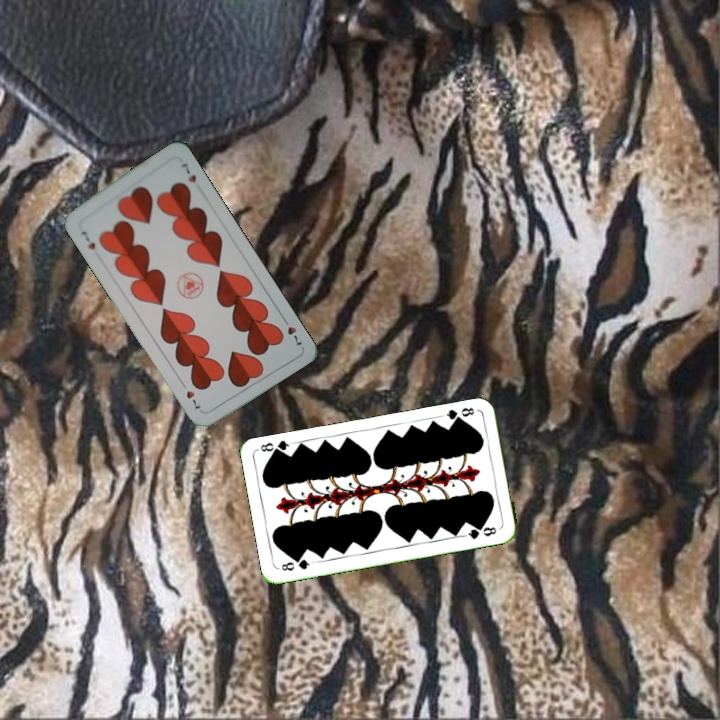G8: (440, 403, 477, 426), (277, 555, 316, 573)
H7: (278, 313, 305, 348), (77, 227, 98, 252)
